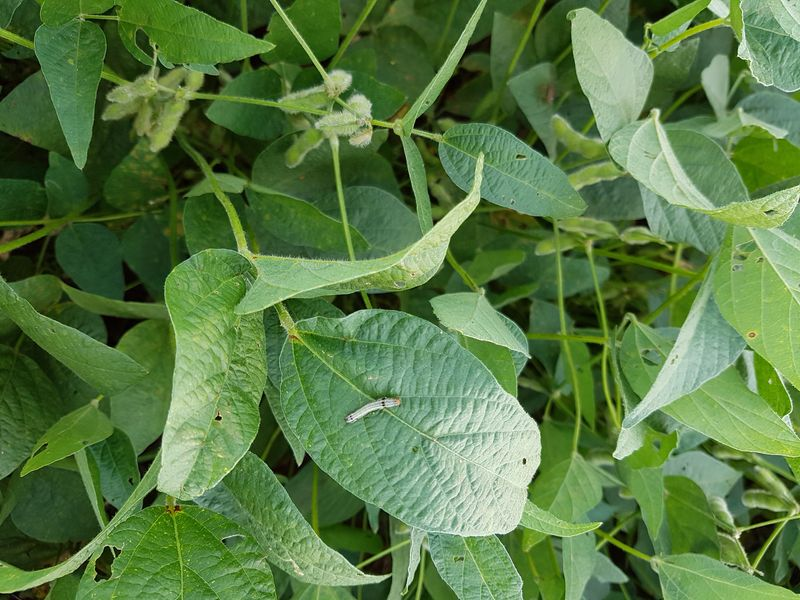Spodoptera_albula: (340, 388, 406, 433)
